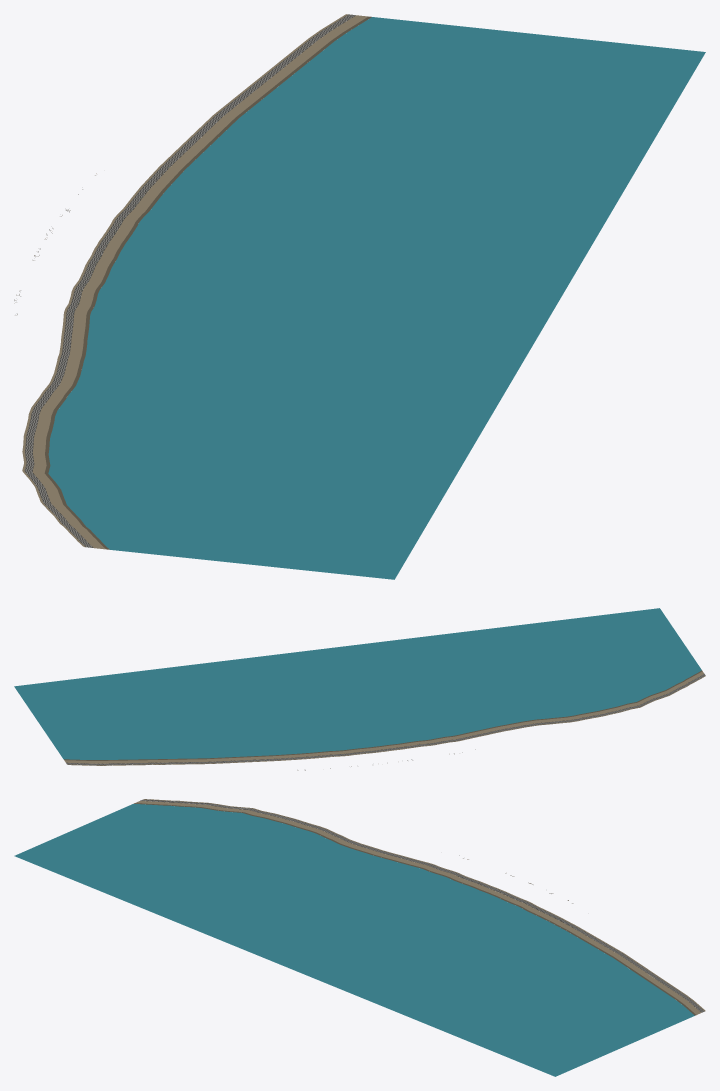
Rendered from R13_VisualPass2_Coastal_Sectors.fbx.
The picture shows the model from 3 angles, top to bottom: view 1: azimuth 30°, elevation 25°; view 2: azimuth 150°, elevation 25°; view 3: azimuth 270°, elevation 25°; orthographic projection. The views are drawn at different scales.
Visible parts, largest first — view 1: R13_S05_ocean_far, R13_S04_ocean_far, R13_S06_ocean_far, R13_S03_ocean_far, R13_S07_ocean_far, R13_S02_ocean_far, R13_S01_ocean_far, R13_S08_ocean_far, R13_S09_ocean_far, R13_S00_ocean_far, R13_S00_ocean_near, R13_S09_ocean_near (+8 smaller); view 2: R13_S05_ocean_far, R13_S04_ocean_far, R13_S06_ocean_far, R13_S03_ocean_far, R13_S07_ocean_far, R13_S02_ocean_far, R13_S01_ocean_far, R13_S08_ocean_far, R13_S09_ocean_far, R13_S00_ocean_far, R13_S08_ocean_near, R13_S02_ocean_near (+8 smaller); view 3: R13_S05_ocean_far, R13_S04_ocean_far, R13_S06_ocean_far, R13_S03_ocean_far, R13_S07_ocean_far, R13_S02_ocean_far, R13_S01_ocean_far, R13_S08_ocean_far, R13_S09_ocean_far, R13_S00_ocean_far, R13_S00_ocean_near, R13_S01_ocean_near (+8 smaller).
Boxes of the visible parts, x1=… form: R13_S05_ocean_far: x1=148, y1=221, x2=581, y2=315; R13_S04_ocean_far: x1=127, y1=273, x2=549, y2=368; R13_S06_ocean_far: x1=181, y1=170, x2=612, y2=262; R13_S03_ocean_far: x1=117, y1=327, x2=518, y2=421; R13_S07_ocean_far: x1=227, y1=119, x2=643, y2=210; R13_S02_ocean_far: x1=89, y1=382, x2=487, y2=474; R13_S01_ocean_far: x1=86, y1=435, x2=456, y2=526; R13_S08_ocean_far: x1=280, y1=70, x2=674, y2=157; R13_S09_ocean_far: x1=342, y1=21, x2=705, y2=104; R13_S00_ocean_far: x1=98, y1=492, x2=425, y2=579; R13_S00_ocean_near: x1=60, y1=488, x2=146, y2=553; R13_S09_ocean_near: x1=304, y1=17, x2=408, y2=69; R13_S05_ocean_far: x1=272, y1=647, x2=395, y2=742; R13_S04_ocean_far: x1=337, y1=639, x2=459, y2=734; R13_S06_ocean_far: x1=208, y1=655, x2=331, y2=747; R13_S03_ocean_far: x1=401, y1=631, x2=520, y2=724; R13_S07_ocean_far: x1=143, y1=663, x2=264, y2=750; R13_S02_ocean_far: x1=466, y1=623, x2=584, y2=712; R13_S01_ocean_far: x1=531, y1=616, x2=643, y2=703; R13_S08_ocean_far: x1=79, y1=670, x2=196, y2=751; R13_S09_ocean_far: x1=14, y1=678, x2=127, y2=751; R13_S00_ocean_far: x1=595, y1=608, x2=696, y2=687; R13_S08_ocean_near: x1=128, y1=750, x2=202, y2=759; R13_S02_ocean_near: x1=521, y1=704, x2=590, y2=720; R13_S05_ocean_far: x1=285, y1=893, x2=505, y2=988; R13_S04_ocean_far: x1=231, y1=872, x2=452, y2=966; R13_S06_ocean_far: x1=339, y1=915, x2=553, y2=1010; R13_S03_ocean_far: x1=177, y1=854, x2=394, y2=944; R13_S07_ocean_far: x1=393, y1=940, x2=598, y2=1032; R13_S02_ocean_far: x1=122, y1=833, x2=331, y2=922; R13_S01_ocean_far: x1=68, y1=818, x2=275, y2=899; R13_S08_ocean_far: x1=447, y1=966, x2=640, y2=1054; R13_S09_ocean_far: x1=501, y1=994, x2=678, y2=1076; R13_S00_ocean_far: x1=14, y1=810, x2=204, y2=877; R13_S00_ocean_near: x1=118, y1=804, x2=220, y2=817; R13_S01_ocean_near: x1=206, y1=811, x2=290, y2=832.
Size of what is drawn, in the model's own units: 174743 by 365 by 183905.
Materials: 9 (5 with a texture image).
